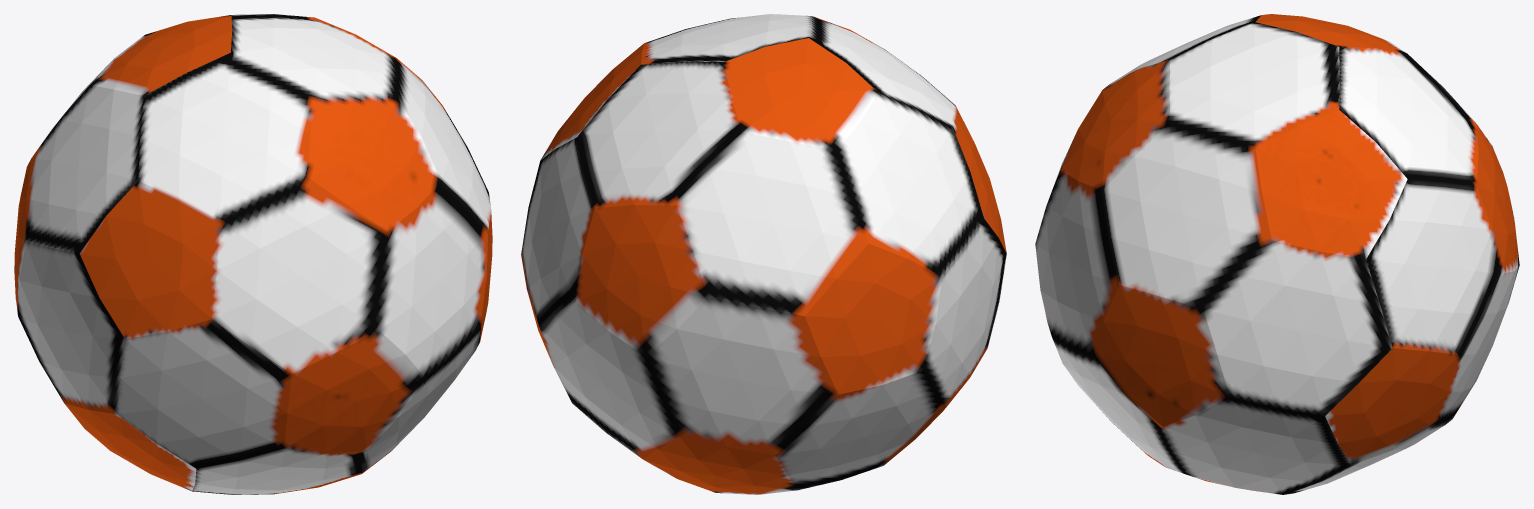
File: ball.dae
3 views of the same model, side by side, from view 1: azimuth 30°, elevation 25°; view 2: azimuth 150°, elevation 25°; view 3: azimuth 270°, elevation 25° (orthographic).
Parts seen in each view (by area): view 1: Sphere_soccerball; view 2: Sphere_soccerball; view 3: Sphere_soccerball.
Boxes of the visible parts, bbox=[...] form: Sphere_soccerball: bbox=[14, 14, 492, 494]; Sphere_soccerball: bbox=[521, 14, 1006, 494]; Sphere_soccerball: bbox=[1035, 14, 1519, 494].
Bounding box in the file's own units: 1.92 × 1.99 × 1.97.
